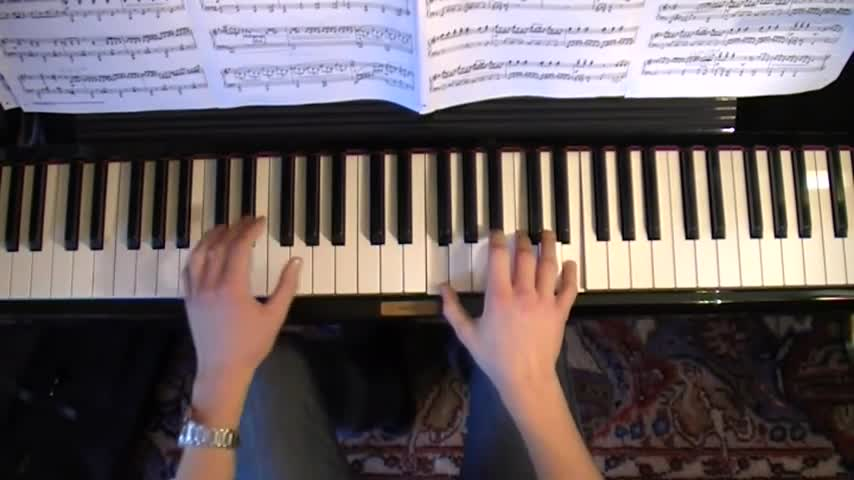left: (182, 213, 302, 364)
right: (442, 227, 577, 376)
